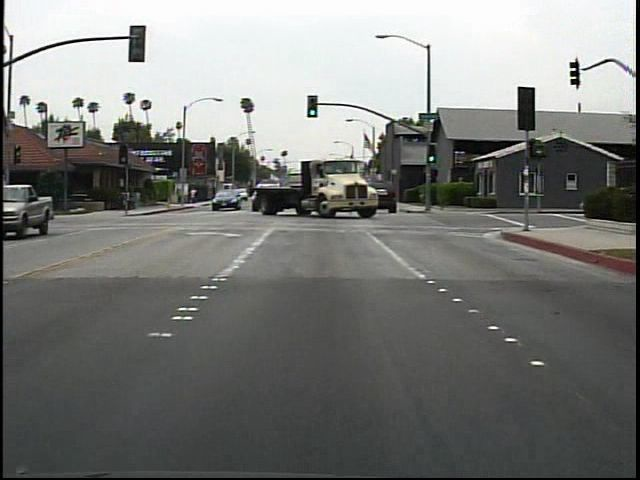person: (190, 183, 201, 206)
